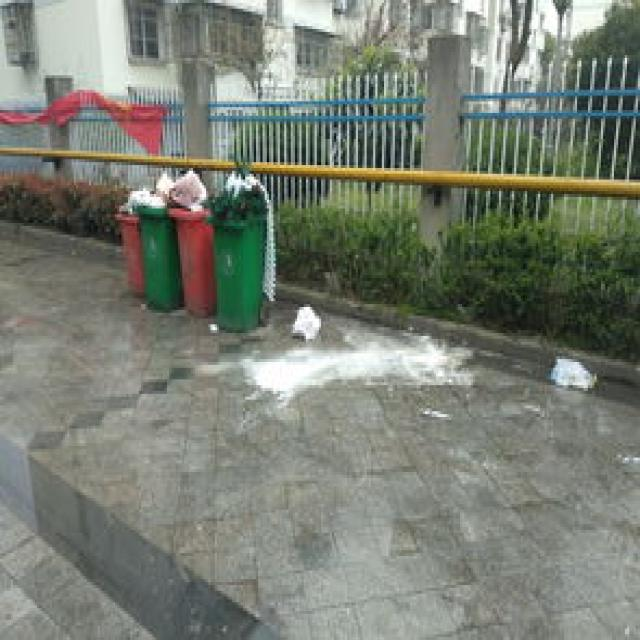garbage: (549, 353, 596, 388), (288, 301, 319, 342)
overflow: (200, 171, 274, 327), (165, 165, 215, 313), (135, 171, 182, 307), (113, 188, 145, 296)
